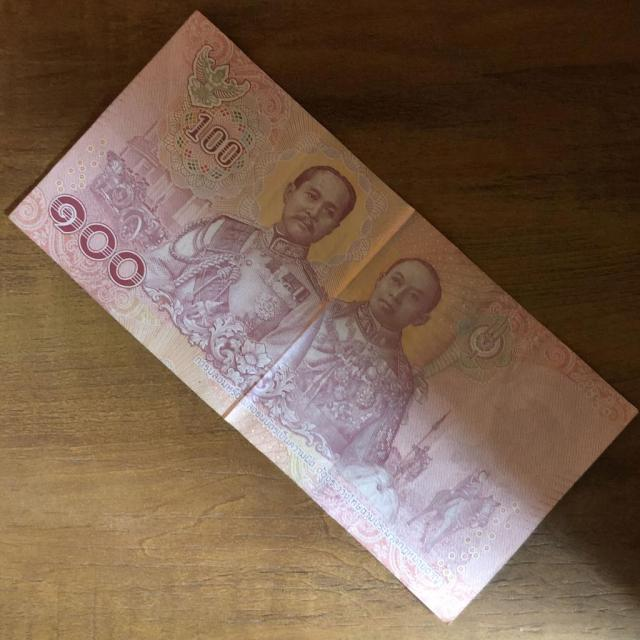THAI100: (10, 13, 636, 621)
